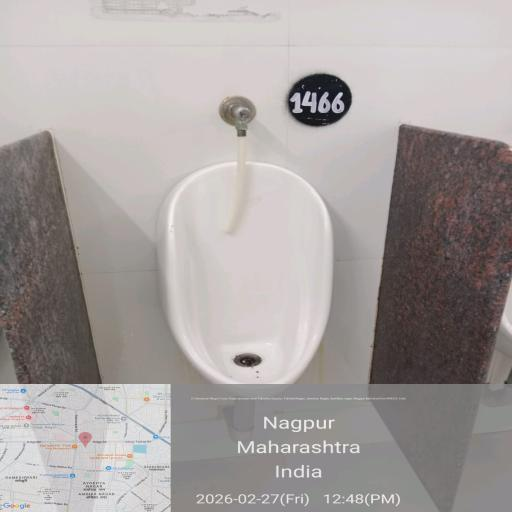clean_floor: (3, 9, 487, 142), (355, 138, 512, 402), (0, 147, 165, 387)
clean_urinal: (160, 160, 336, 381)
